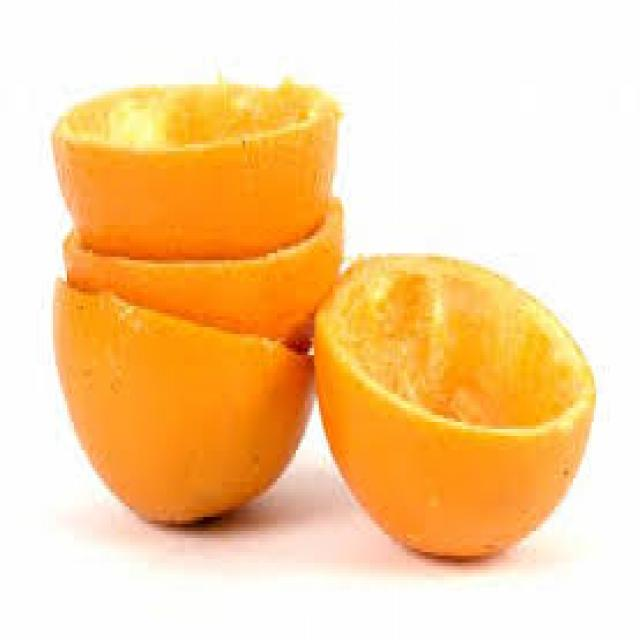Cascara de naranja: (54, 90, 602, 564)
